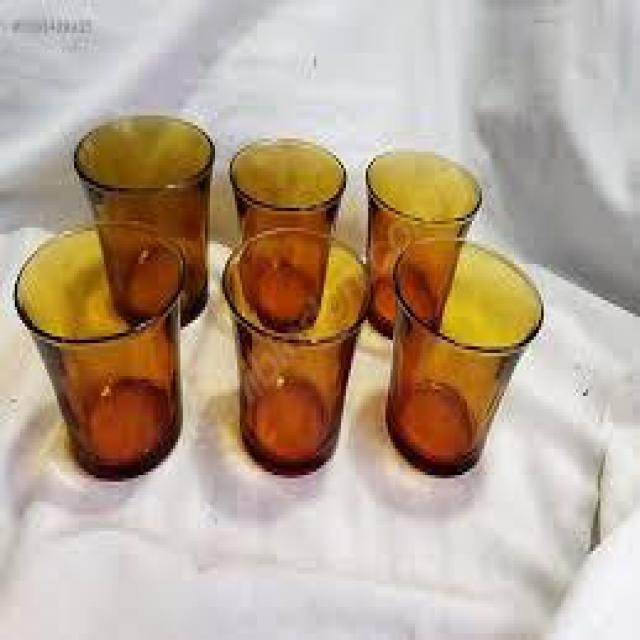non-organic waste: (216, 228, 377, 478)
